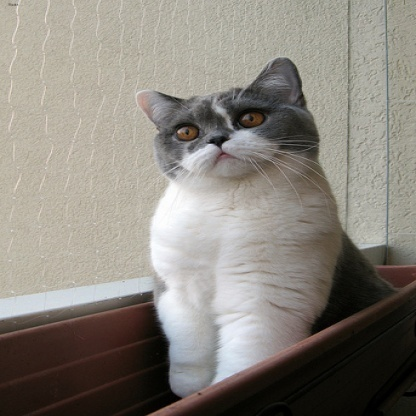british_shorthair: (136, 58, 402, 395)
